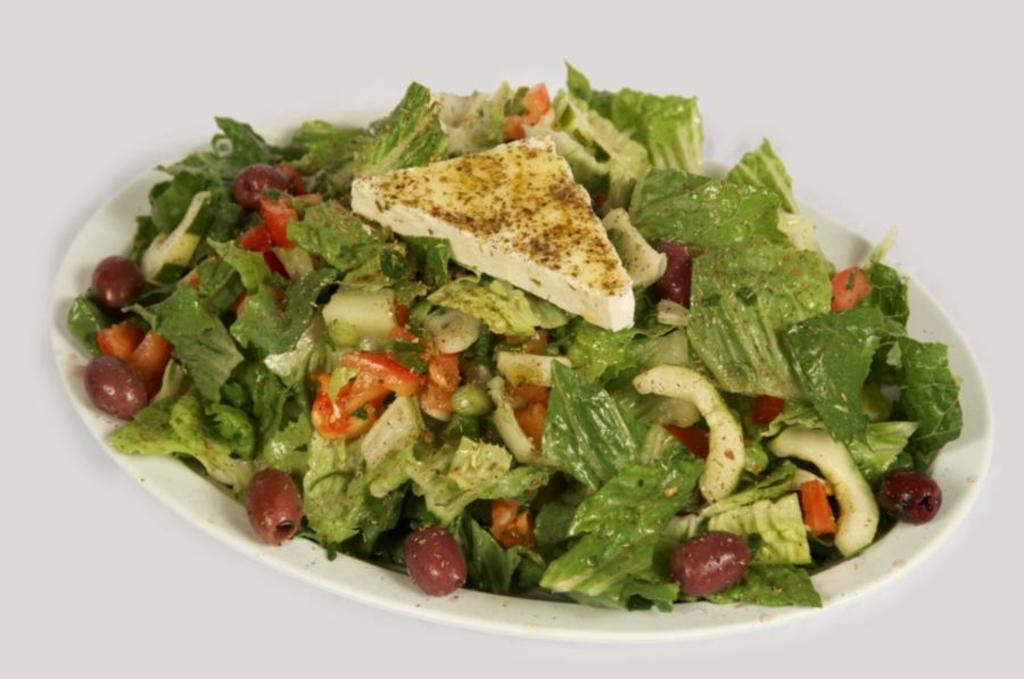salad: (60, 51, 965, 605)
